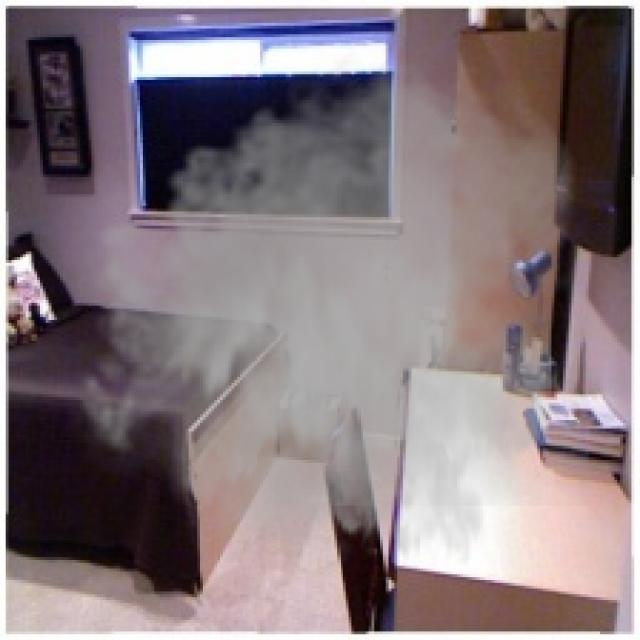smoke: (63, 43, 588, 603)
